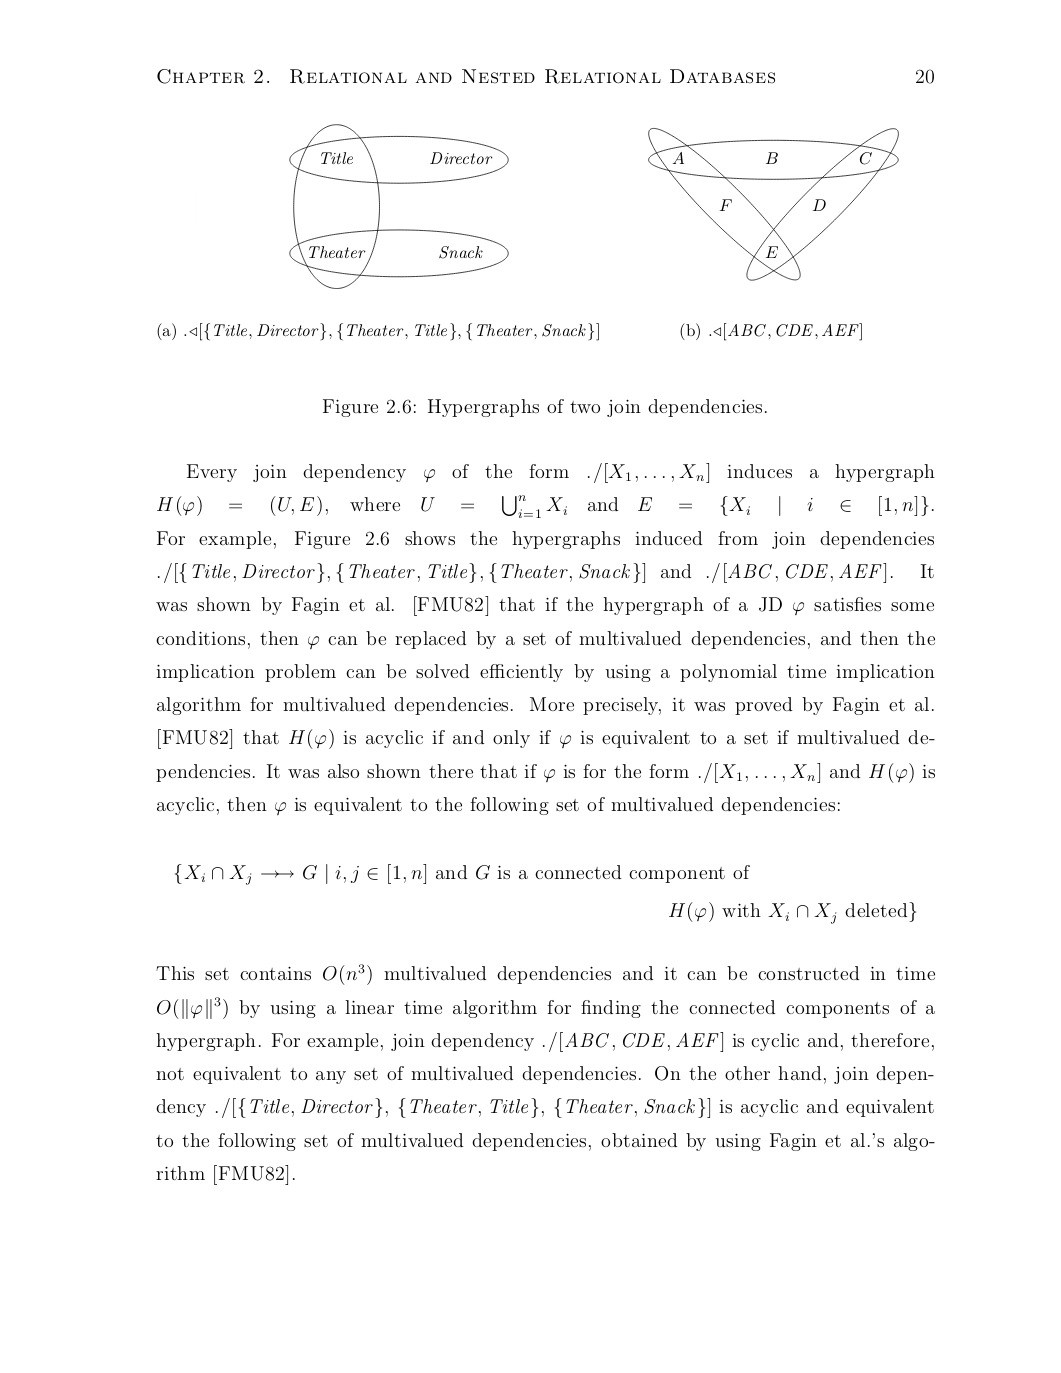figure: (648, 127, 898, 280), (289, 124, 508, 288)
formula: (157, 494, 933, 518), (174, 861, 749, 885), (669, 900, 916, 924)
